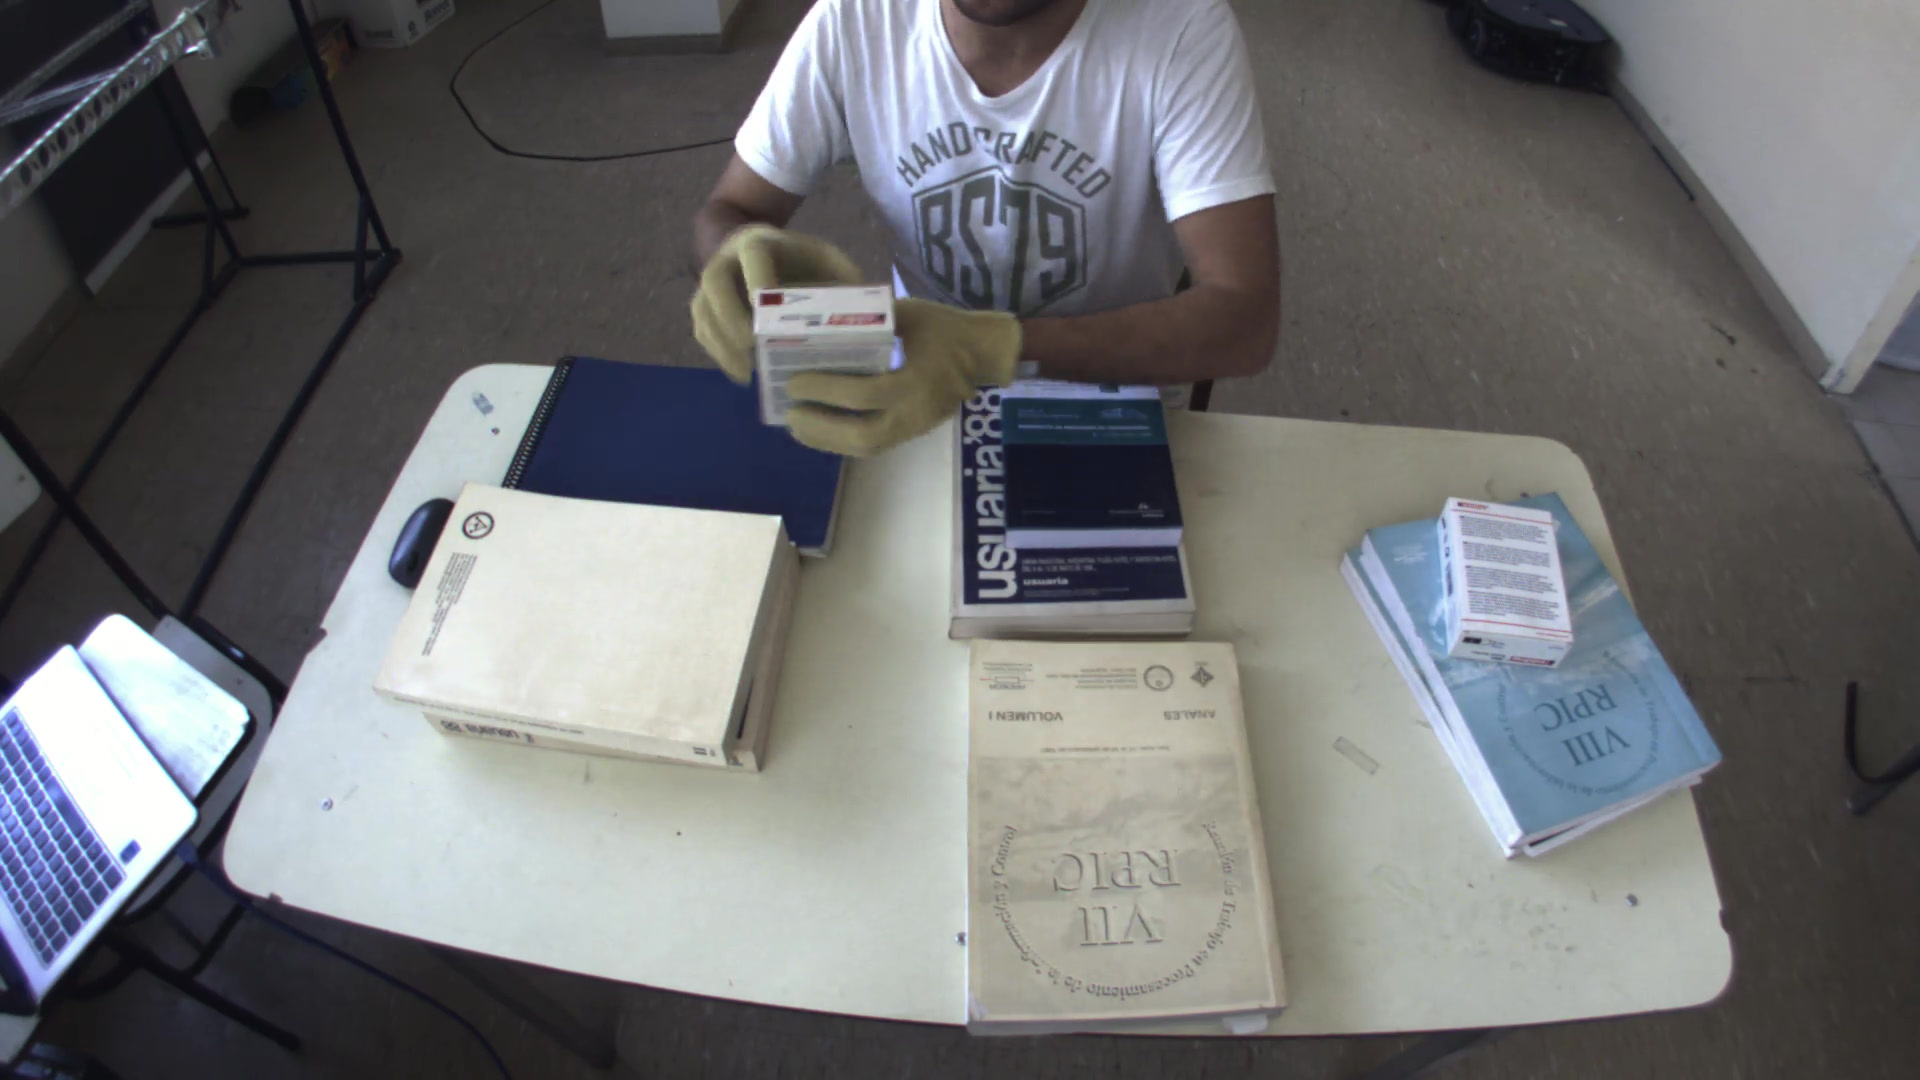hand: (753, 281, 1030, 467), (667, 215, 857, 378)
